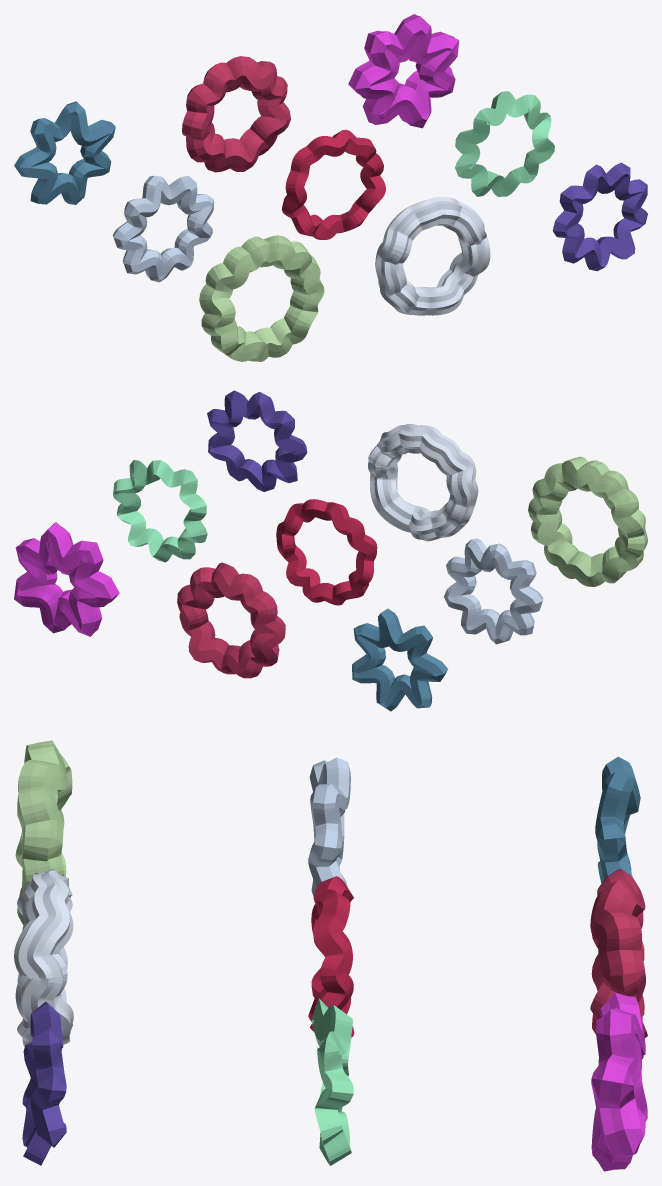
The model's file is std_mats_0_ClosedSplineTest_2023-06-04-21-23-01.gltf.
The picture shows the model from 3 angles, top to bottom: view 1: azimuth 30°, elevation 25°; view 2: azimuth 150°, elevation 25°; view 3: azimuth 270°, elevation 25°; orthographic projection. The views are drawn at different scales.
Bounding box in the file's own units: 527 × 138 × 441.
